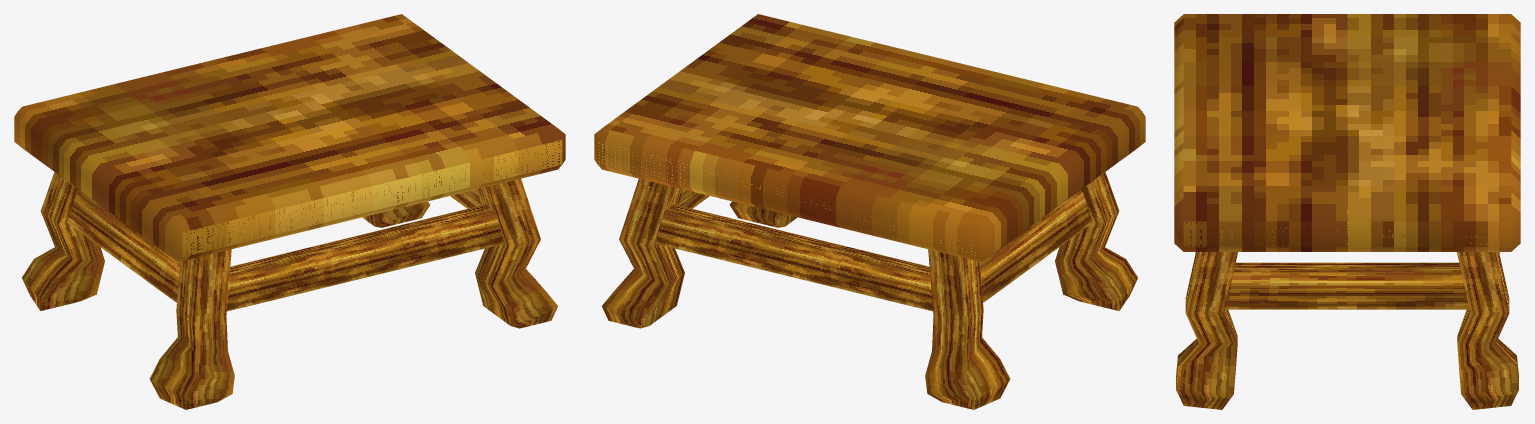
Rendered from a-tabl-1.glb.
3 views of the same model, side by side, from view 1: azimuth 30°, elevation 25°; view 2: azimuth 150°, elevation 25°; view 3: azimuth 270°, elevation 25° (orthographic). The views are drawn at different scales.
Parts seen in each view (by area): view 1: a_tabl_1; view 2: a_tabl_1; view 3: a_tabl_1.
Part boxes in pixels (bbox=[...]): a_tabl_1: bbox=[14, 14, 565, 409]; a_tabl_1: bbox=[594, 14, 1145, 409]; a_tabl_1: bbox=[1174, 14, 1520, 409].
Size of the model in its own units: 249 by 115 by 180.
1 material, 1 textured.
